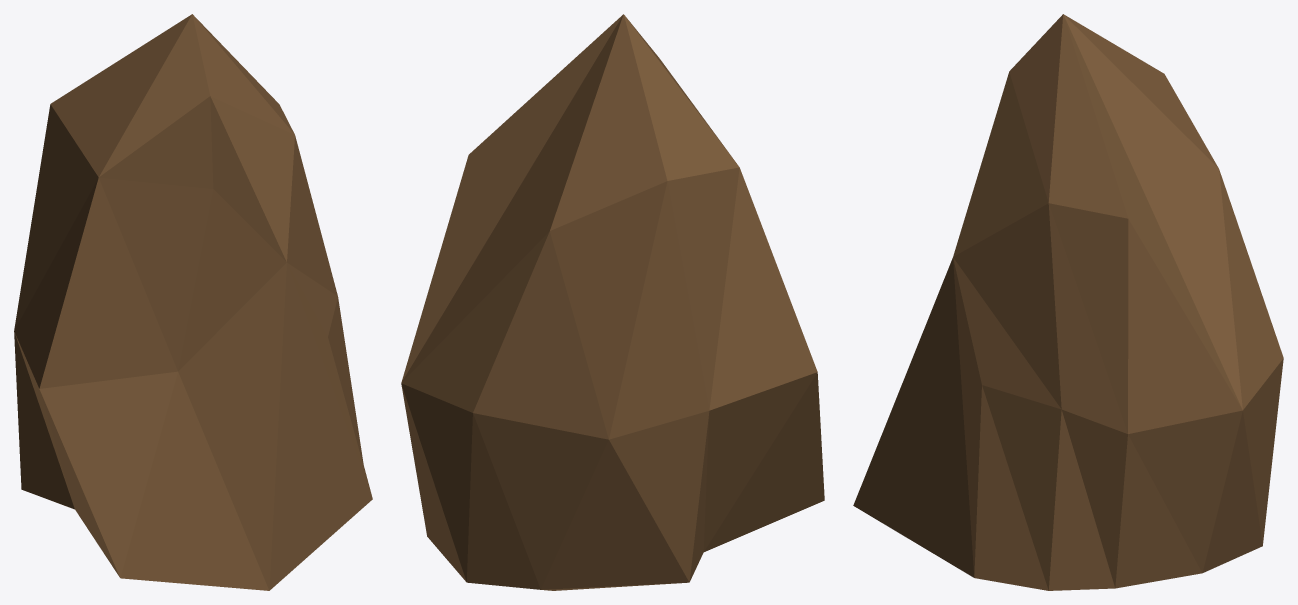
Rendered from cave_rock2.dae.
3 views of the same model, side by side, from view 1: azimuth 30°, elevation 25°; view 2: azimuth 150°, elevation 25°; view 3: azimuth 270°, elevation 25° (orthographic). The views are drawn at different scales.
Parts seen in each view (by area): view 1: Icosphere; view 2: Icosphere; view 3: Icosphere.
Boxes of the visible parts, box(x1,y1,x2,y2) form: Icosphere: box(14, 14, 372, 590); Icosphere: box(401, 14, 824, 590); Icosphere: box(853, 14, 1283, 590).
Size of the model in its own units: 1.7 by 1.84 by 2.5.
